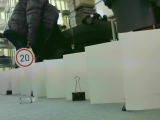speed_20: (13, 47, 34, 68)
